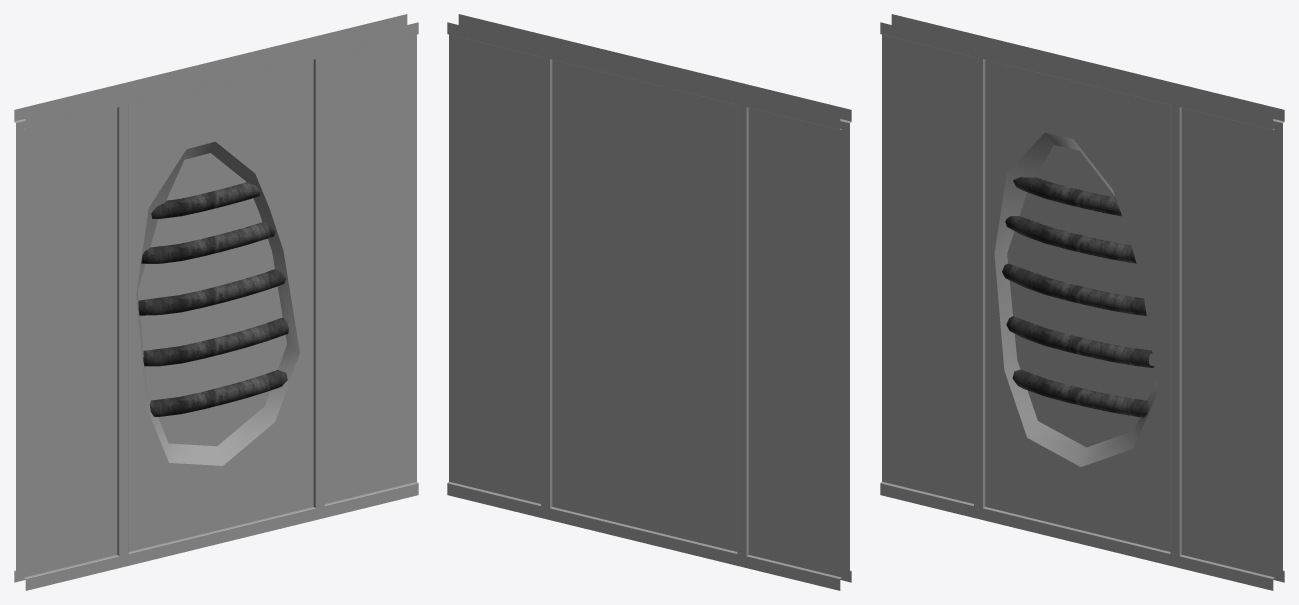
File: SM_DestroyedWall2_200x230x10.fbx
3 views of the same model, side by side, from view 1: azimuth 30°, elevation 25°; view 2: azimuth 150°, elevation 25°; view 3: azimuth 330°, elevation 25° (orthographic).
Parts seen in each view (by area): view 1: SM_DestroyedWall2_200x230x10; view 2: SM_DestroyedWall2_200x230x10; view 3: SM_DestroyedWall2_200x230x10.
Boxes of the visible parts, bbox=[...] form: SM_DestroyedWall2_200x230x10: bbox=[14, 14, 418, 590]; SM_DestroyedWall2_200x230x10: bbox=[447, 14, 851, 590]; SM_DestroyedWall2_200x230x10: bbox=[880, 14, 1284, 590].
Bounding box in the file's own units: 200 × 230 × 10.
